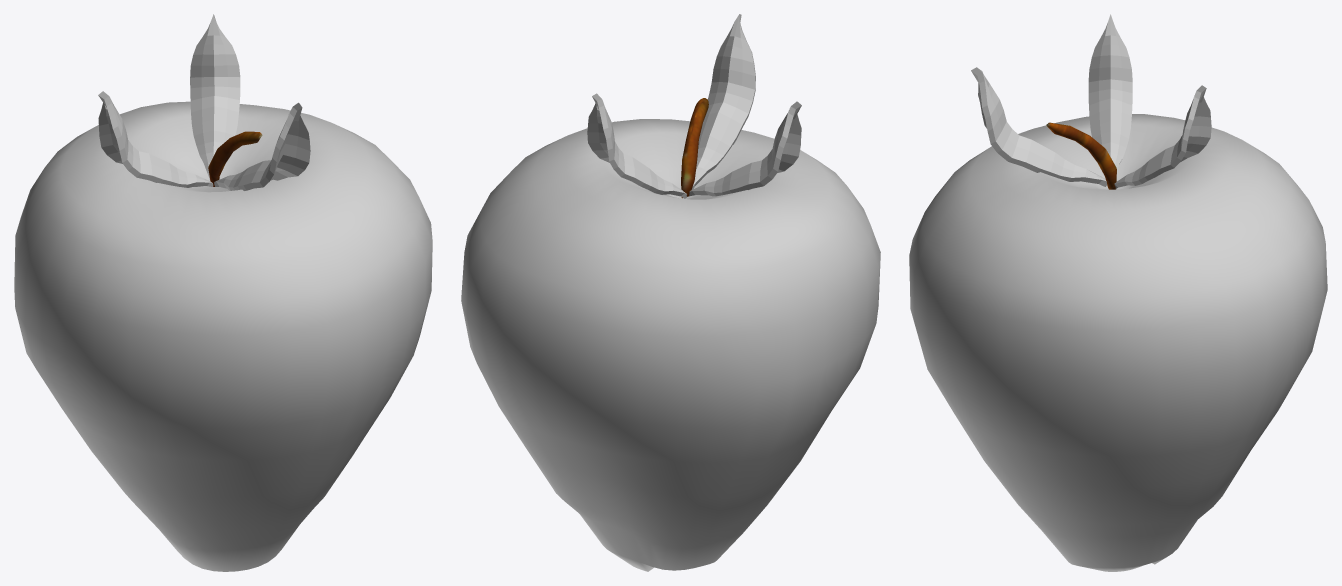
File: shrink_fruit.fbx
3 views of the same model, side by side, from view 1: azimuth 30°, elevation 25°; view 2: azimuth 150°, elevation 25°; view 3: azimuth 270°, elevation 25° (orthographic). The views are drawn at different scales.
Parts seen in each view (by area): view 1: Sphere07, Cube.007, Cube.006, Cube.008, Cylinder05.002; view 2: Sphere07, Cube.008, Cube.006, Cube.007, Cylinder05.002; view 3: Sphere07, Cube.006, Cube.008, Cube.007, Cylinder05.002.
Part boxes in pixels (left/top/right/bottom): Sphere07: left=14, top=101, right=432, bottom=571; Cube.007: left=190, top=14, right=240, bottom=180; Cube.006: left=98, top=91, right=213, bottom=187; Cube.008: left=214, top=102, right=310, bottom=190; Cylinder05.002: left=208, top=131, right=262, bottom=186; Sphere07: left=461, top=119, right=880, bottom=571; Cube.008: left=691, top=14, right=755, bottom=189; Cube.006: left=689, top=101, right=801, bottom=196; Cube.007: left=587, top=93, right=687, bottom=198; Cylinder05.002: left=681, top=98, right=708, bottom=198; Sphere07: left=909, top=114, right=1327, bottom=571; Cube.006: left=1088, top=14, right=1132, bottom=169; Cube.008: left=971, top=67, right=1107, bottom=186; Cube.007: left=1114, top=85, right=1211, bottom=188; Cylinder05.002: left=1046, top=122, right=1116, bottom=189.
Size of the model in its own units: 10.26 by 13.68 by 10.45.
